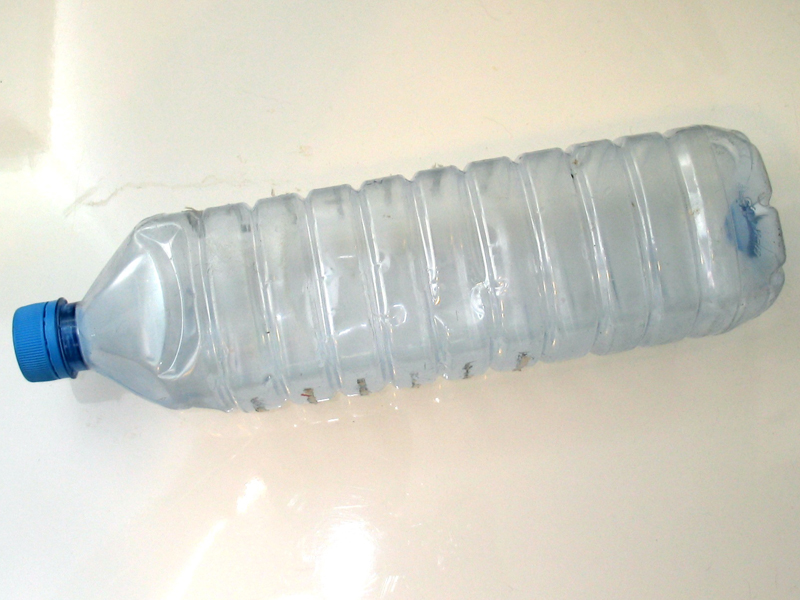bottle: (3, 98, 785, 443)
